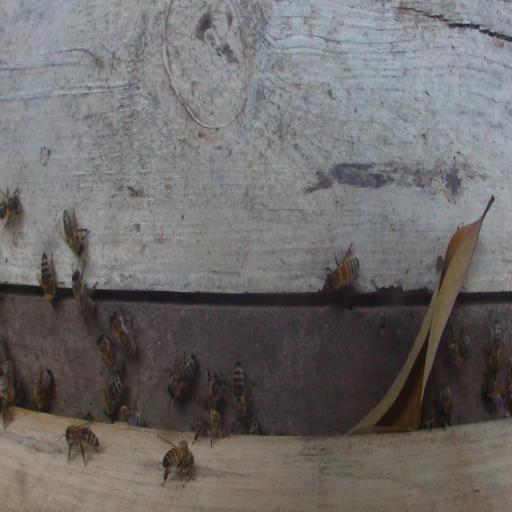nonpollenbee: (59, 419, 100, 466), (324, 242, 360, 293), (161, 439, 195, 488), (167, 350, 198, 402), (191, 408, 228, 448), (70, 267, 97, 318), (110, 308, 137, 358), (62, 206, 89, 255), (97, 333, 124, 375), (444, 328, 471, 367), (33, 366, 54, 412), (484, 374, 507, 416), (0, 185, 21, 230), (39, 252, 56, 307), (102, 375, 123, 417), (232, 361, 247, 419), (207, 370, 229, 409), (118, 404, 145, 427), (439, 378, 452, 425), (491, 320, 502, 373), (422, 415, 449, 430), (248, 417, 261, 434), (450, 411, 450, 412)
